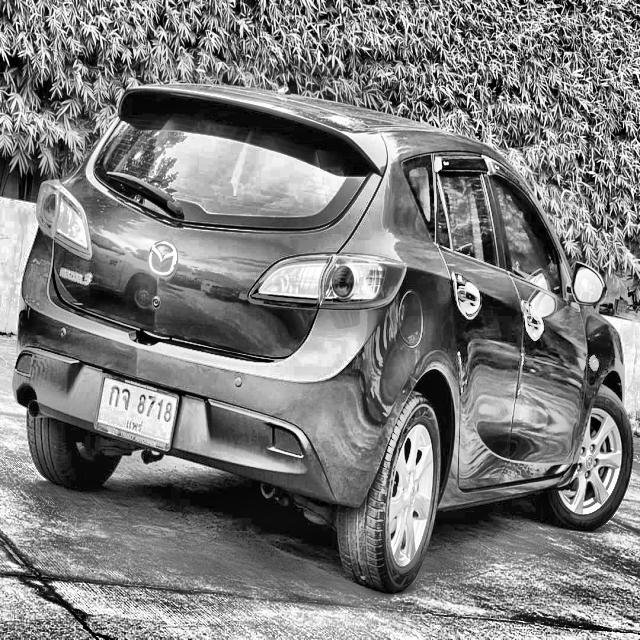license-plate: (91, 372, 183, 456)
